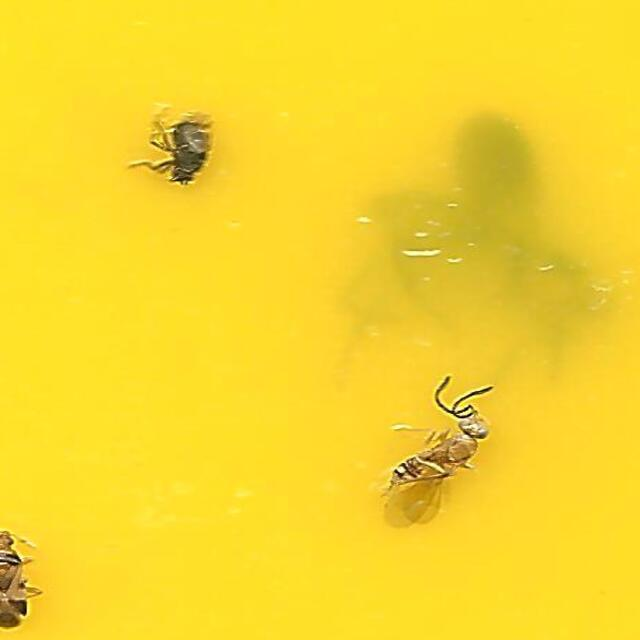Brachycera: (141, 109, 214, 191)
Hymenoptera: (381, 377, 499, 531)
